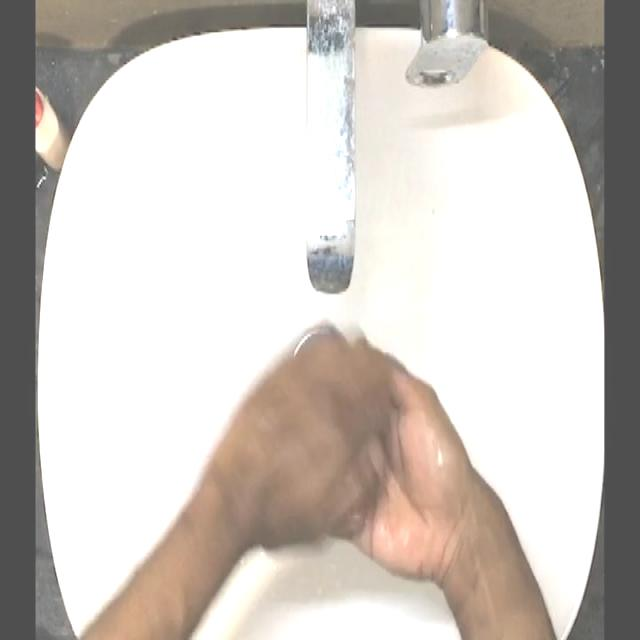step_4: (238, 317, 458, 590)
